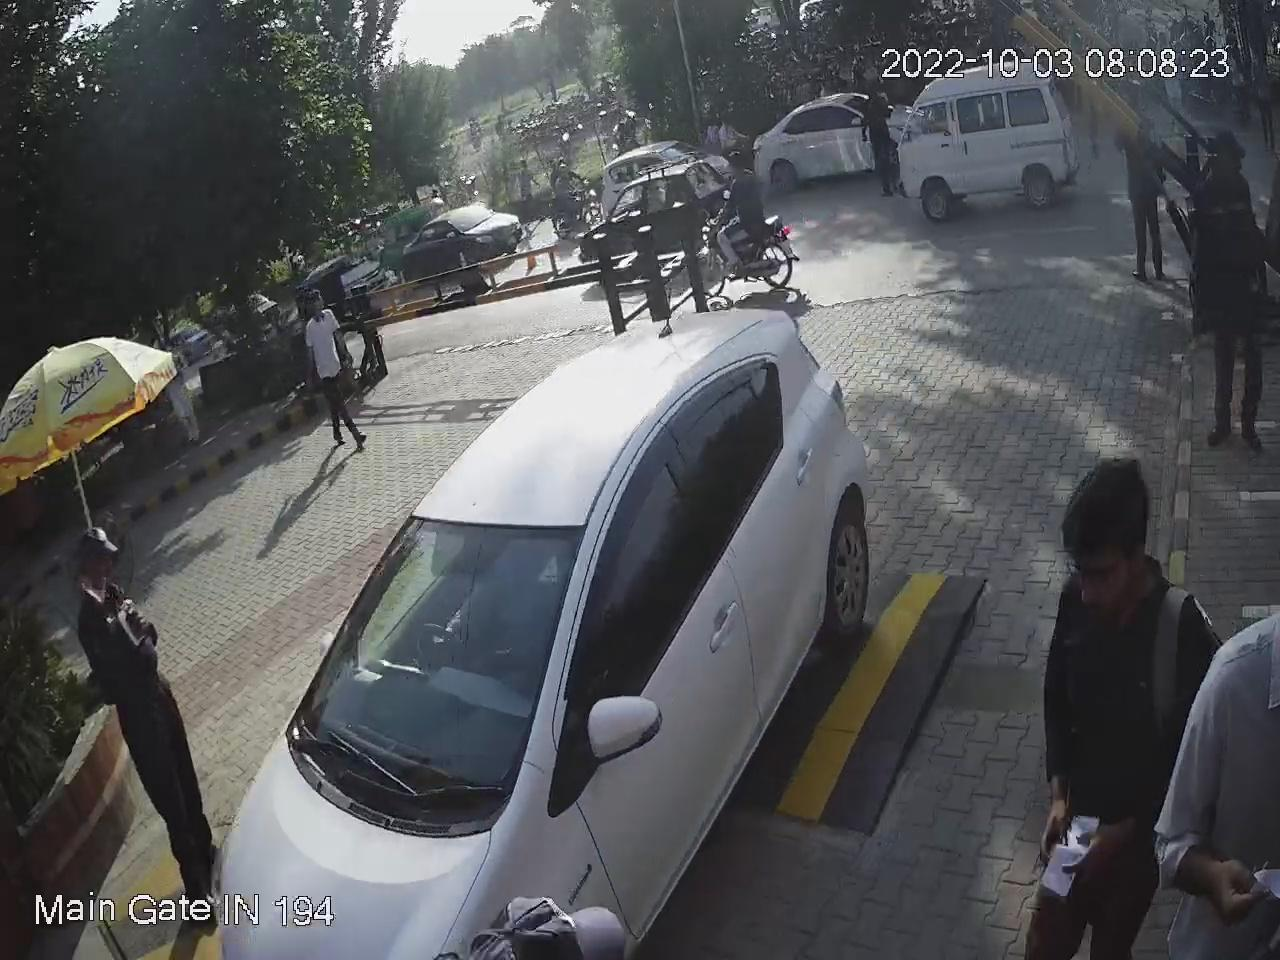windshield: (298, 478, 593, 800)
